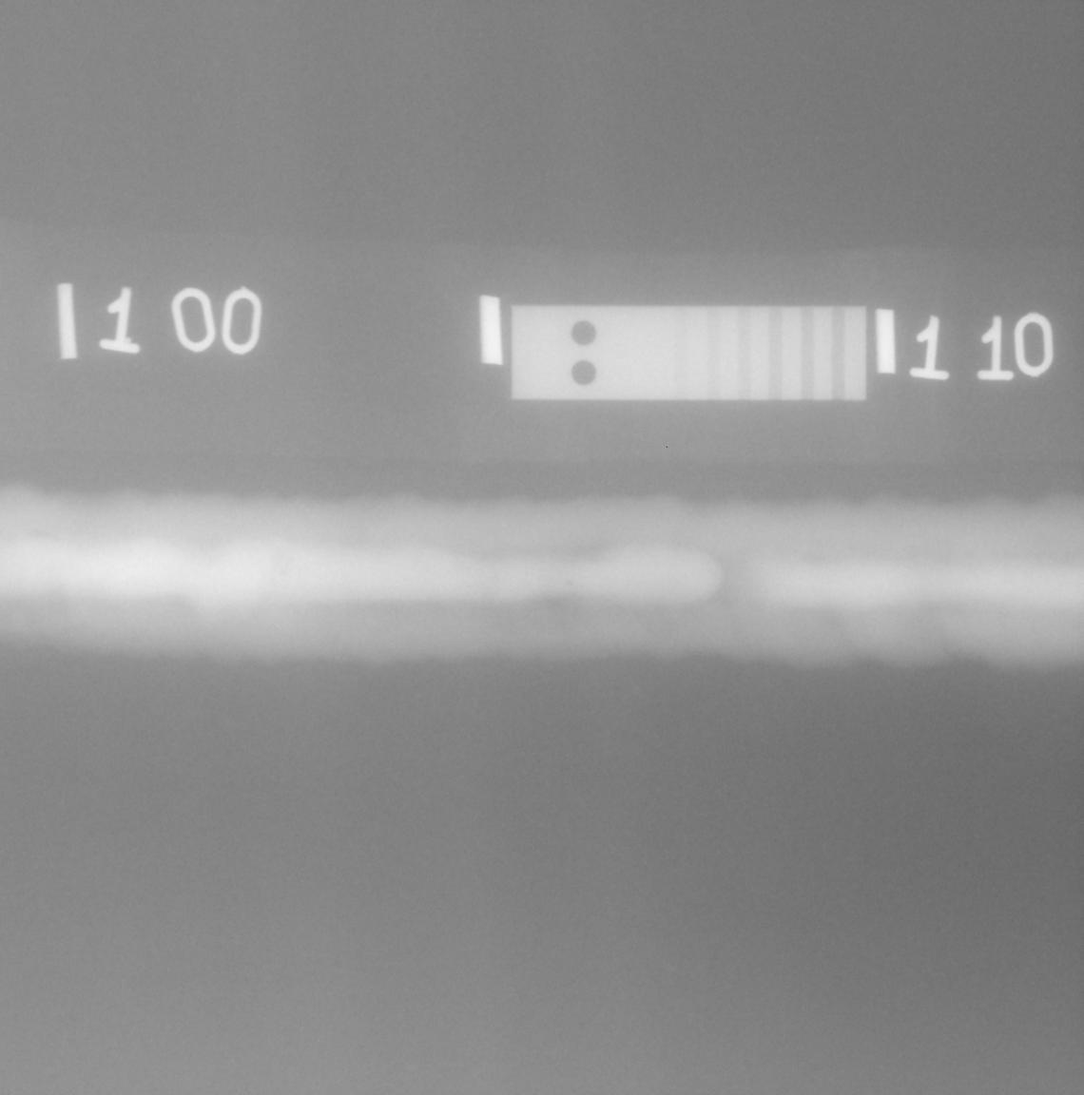Inclusion: (29, 530, 61, 539), (592, 547, 597, 550)
Pore/Porosity: (565, 581, 572, 586)
Reference Standard 2: (511, 305, 867, 401)
